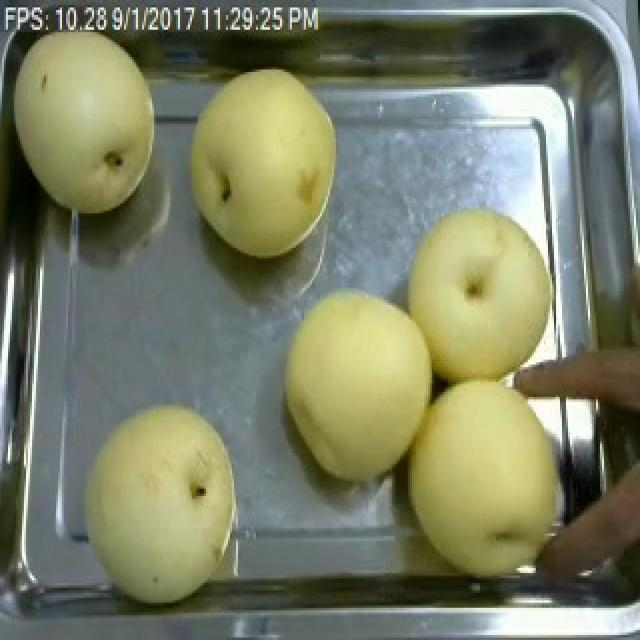Fruit: (392, 367, 586, 583), (72, 389, 250, 613), (270, 275, 450, 489), (172, 59, 352, 268), (0, 10, 166, 223), (392, 196, 556, 397)
